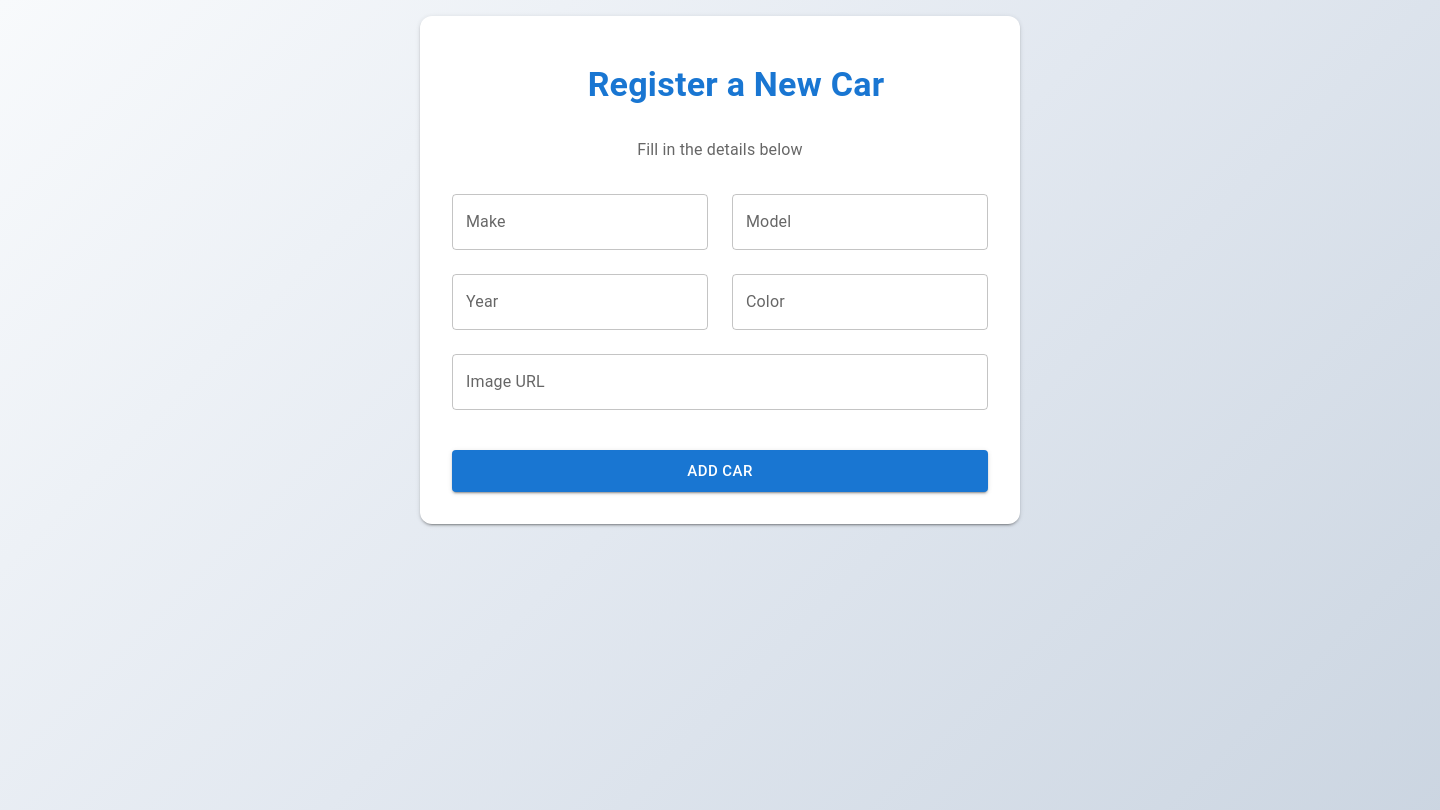
Test: AddCarFormView › should display validation errors when submitting empty form
Click the button "Add Car": (720,471) [452,450,988,492]
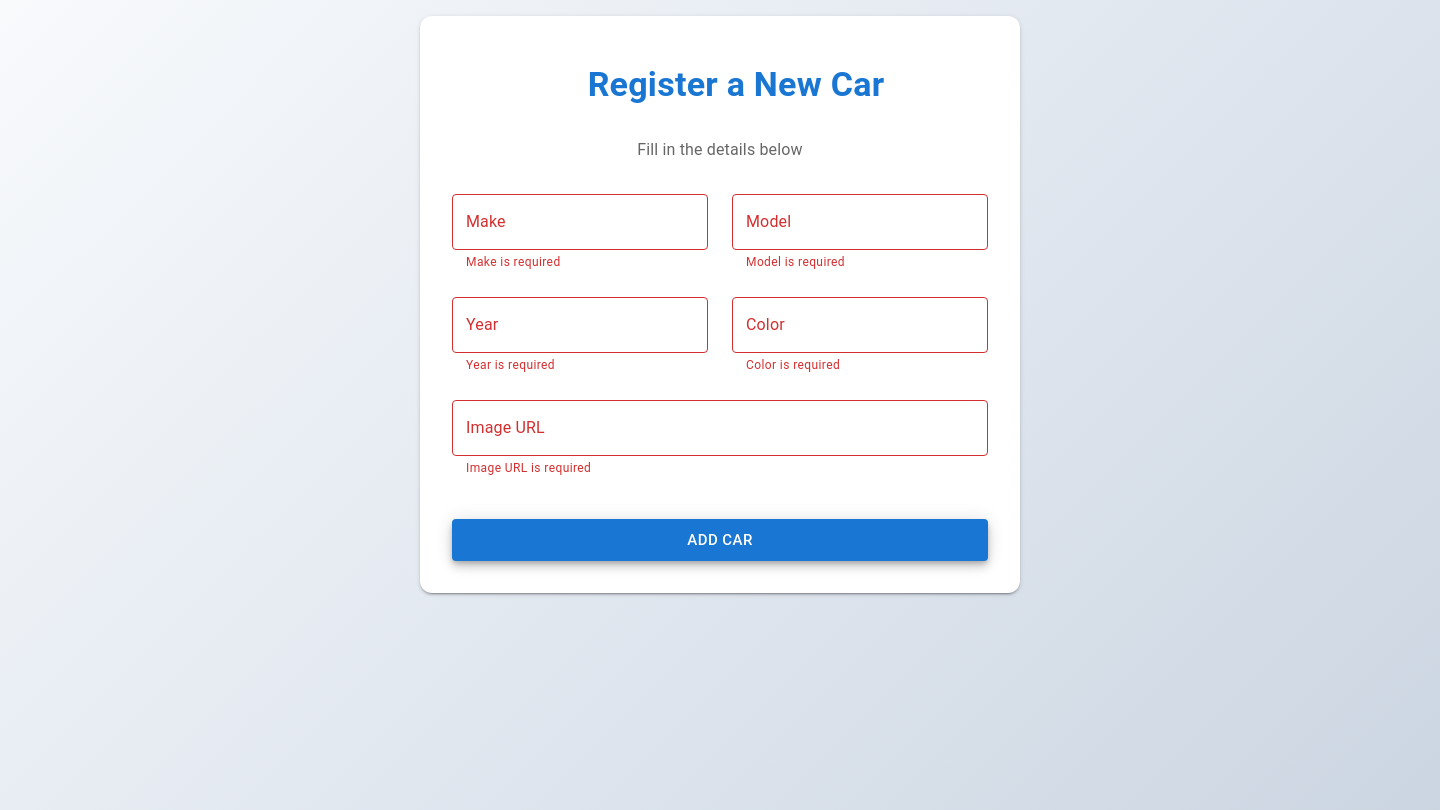
Result: the text "Make is required" is shown at [466,255,561,269]
Result: the text "Model is required" is shown at [746,255,845,269]
Result: the text "Year is required" is shown at [466,358,555,372]
